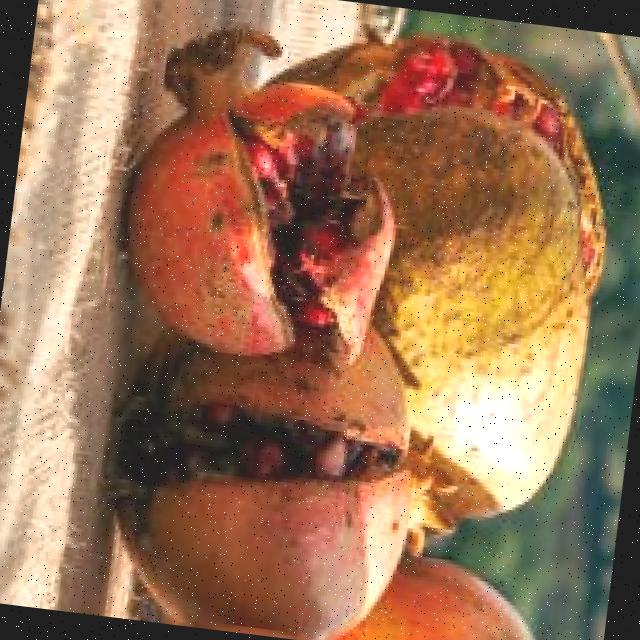overripe: (372, 32, 634, 534), (85, 327, 467, 640), (108, 11, 420, 380)
